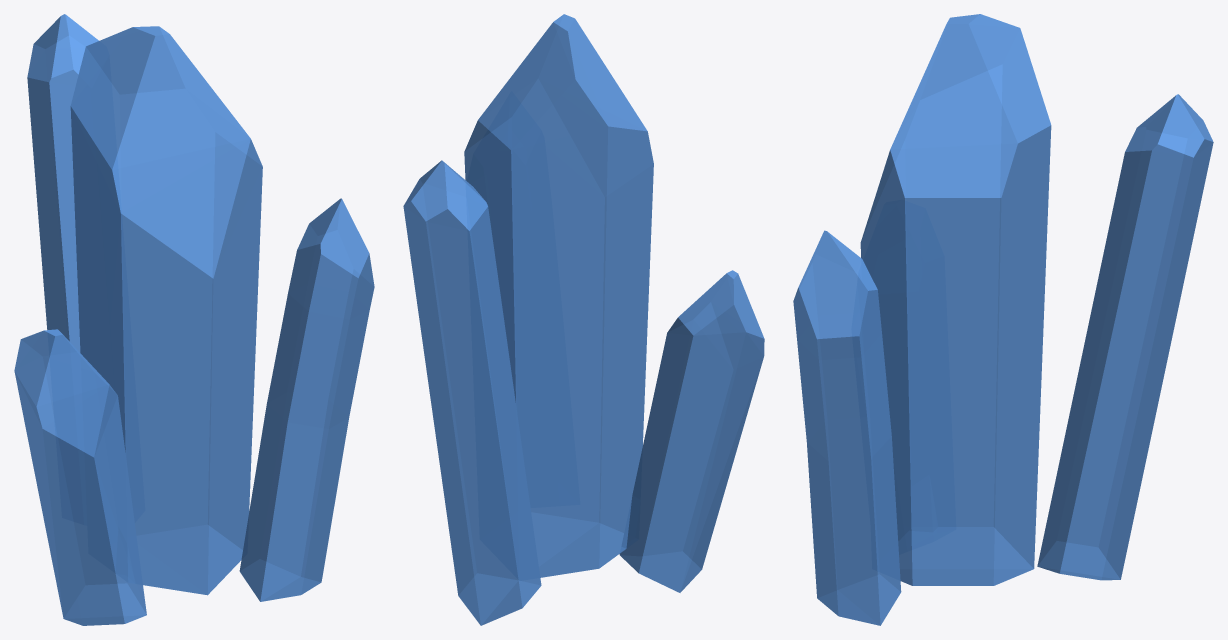
The model's file is Crystals_l_03.fbx.
3 renders of one model, left to right at view 1: azimuth 30°, elevation 25°; view 2: azimuth 150°, elevation 25°; view 3: azimuth 270°, elevation 25°, orthographic.
Visible parts, largest first — view 1: Crystals_l_03; view 2: Crystals_l_03; view 3: Crystals_l_03.
Part boxes in pixels (left/top/right/bottom): Crystals_l_03: left=14, top=14, right=374, bottom=625; Crystals_l_03: left=403, top=14, right=764, bottom=625; Crystals_l_03: left=793, top=14, right=1213, bottom=625.
Bounding box in the file's own units: 2.66 × 4.56 × 3.08.
